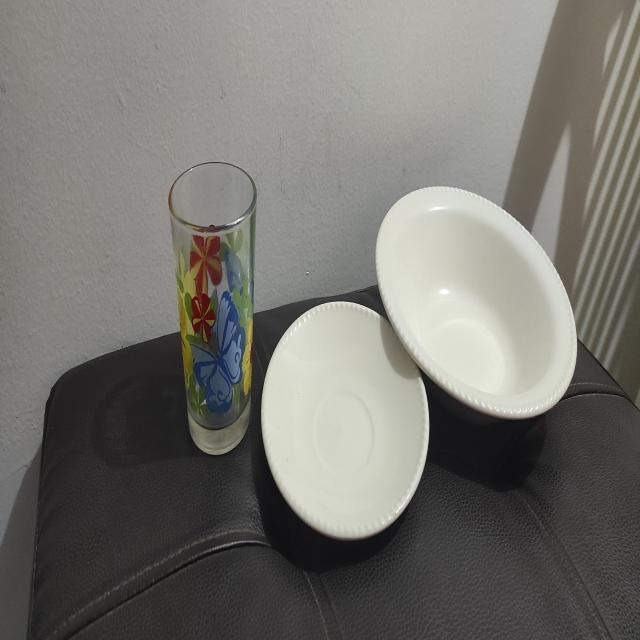non-organic waste: (350, 113, 579, 457), (259, 294, 435, 560)
